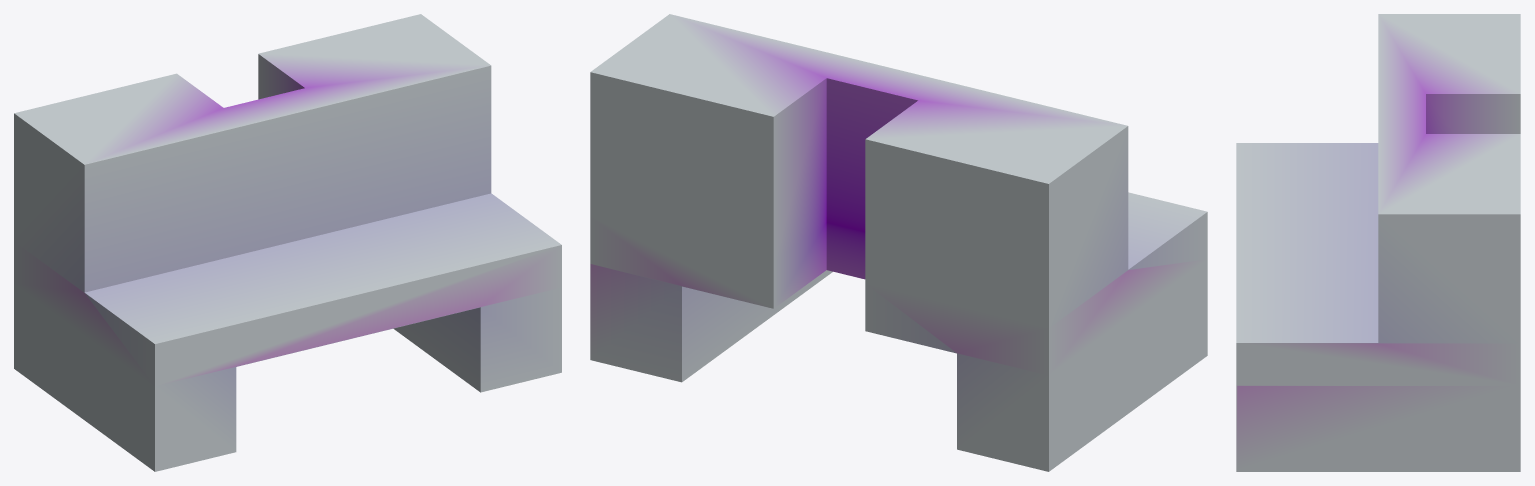
The picture shows the model from 3 angles, left to right: view 1: azimuth 30°, elevation 25°; view 2: azimuth 150°, elevation 25°; view 3: azimuth 270°, elevation 25°; orthographic projection. The views are drawn at different scales.
Parts seen in each view (by area): view 1: ledge; view 2: ledge; view 3: ledge.
Boxes of the visible parts, x1,y1,x2,y2 form: ledge: (14,14,561,471); ledge: (590,14,1207,471); ledge: (1236,14,1520,471).
Bounding box in the file's own units: 0.5 × 0.3 × 0.3.
